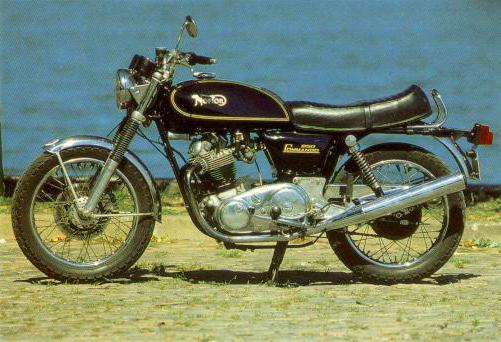motorcycle: (2, 2, 501, 304)
